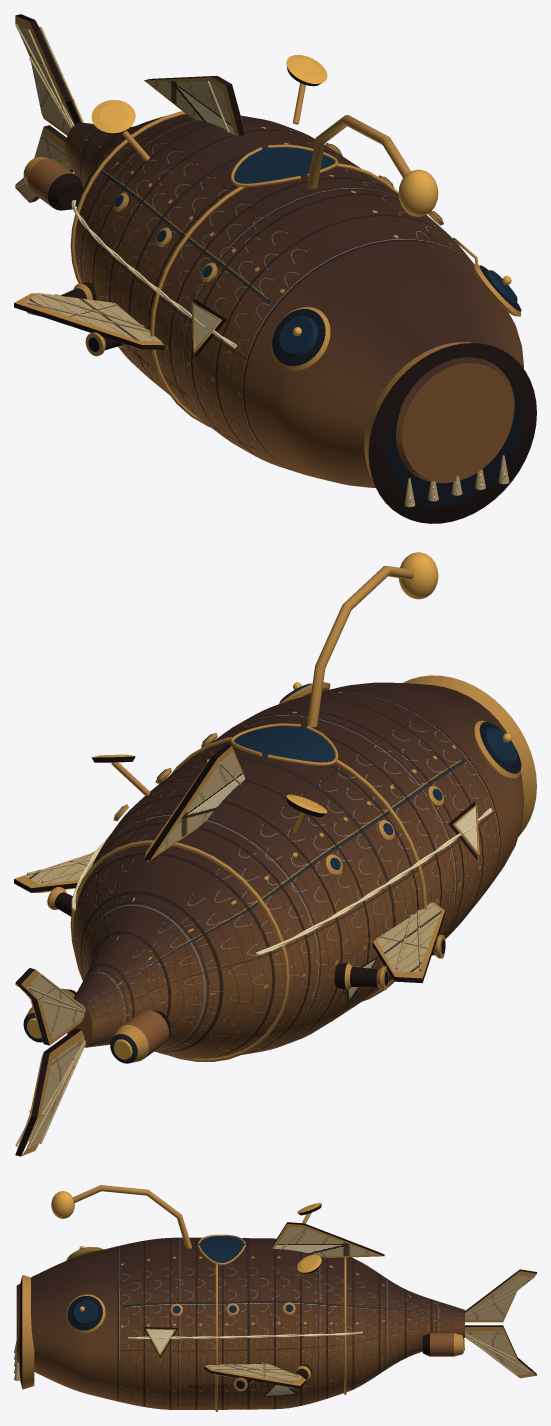
The picture shows the model from 3 angles, top to bottom: view 1: azimuth 30°, elevation 25°; view 2: azimuth 150°, elevation 25°; view 3: azimuth 270°, elevation 25°; orthographic projection. The views are drawn at different scales.
Visible parts, largest first — view 1: anglerfish_hull; view 2: anglerfish_hull; view 3: anglerfish_hull.
Part boxes in pixels (x1,y1,x2,y2): anglerfish_hull: [14, 14, 536, 523]; anglerfish_hull: [14, 552, 536, 1156]; anglerfish_hull: [14, 1185, 536, 1411].
Size of the model in its own units: 9.08 by 7.79 by 17.
Materials: 1 (1 with a texture image).
